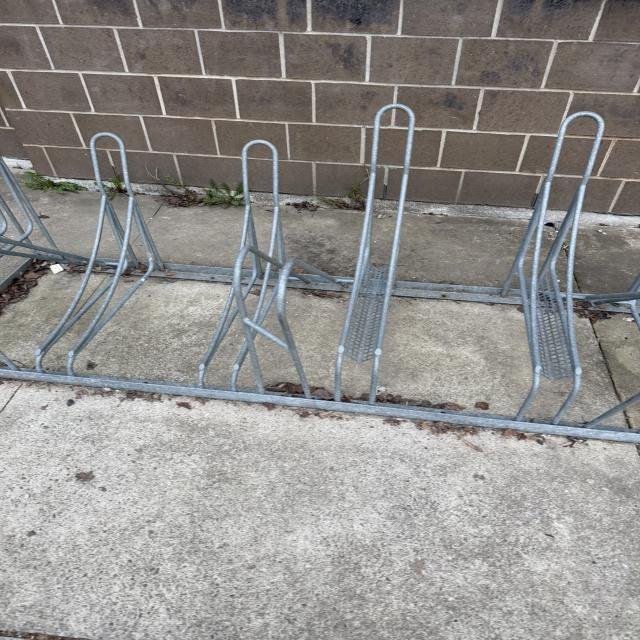Bicycle Rack: (0, 102, 640, 442)
